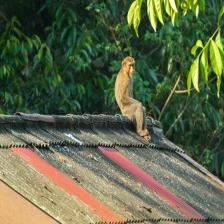monkey: (116, 51, 151, 150)
